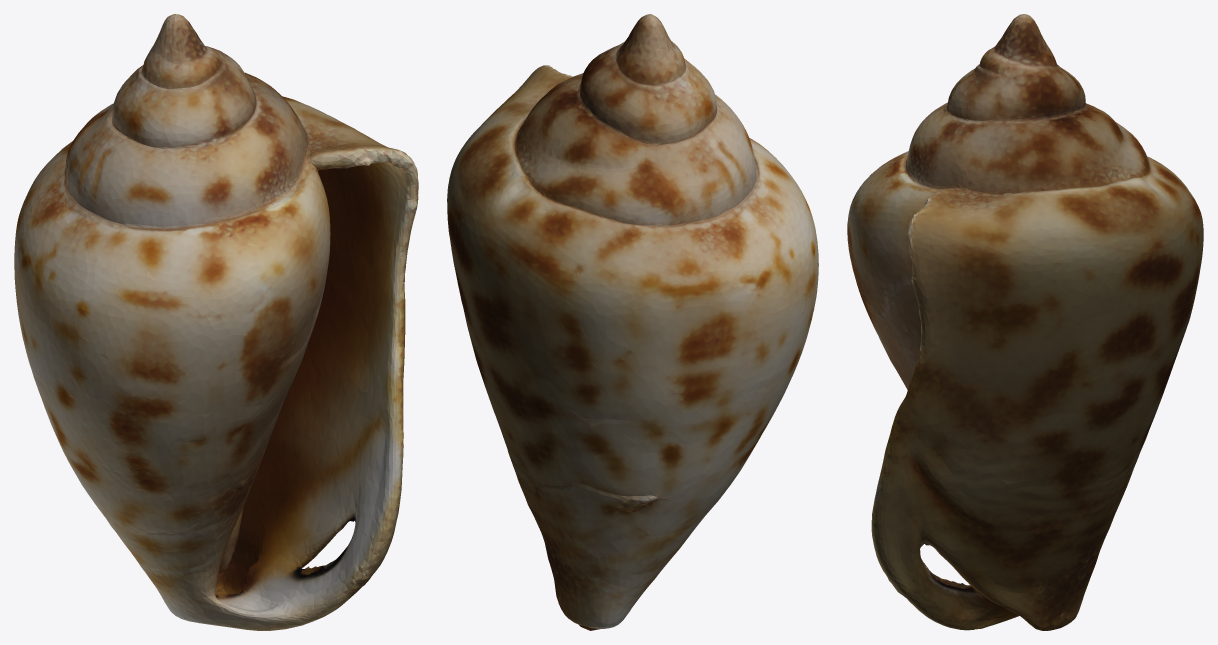
3 views of the same model, side by side, from view 1: azimuth 30°, elevation 25°; view 2: azimuth 150°, elevation 25°; view 3: azimuth 270°, elevation 25° (orthographic). The views are drawn at different scales.
Visible parts, largest first — view 1: world; view 2: world; view 3: world.
Part boxes in pixels (x1,y1,x2,y2): world: (14, 14, 418, 630); world: (447, 14, 818, 630); world: (847, 14, 1203, 630).
Bounding box in the file's own units: 0.5498 × 0.9976 × 0.5464.
1 material, 1 textured.
